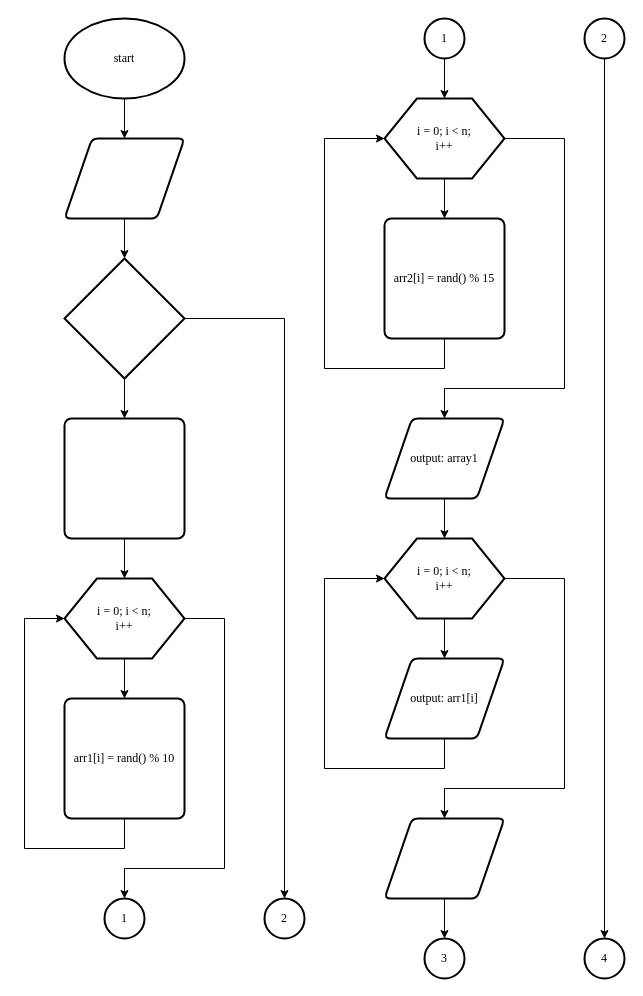
This 643x996 diagram has some shape labels left out. Each missing label, with the box of its shape:
arr1[n] arr2[n] arr3[n] median = 0 sum = 0: (63, 417, 185, 539)
input: n: (63, 137, 185, 219)
n > 13: (63, 257, 185, 379)
output: array2: (383, 817, 505, 899)
